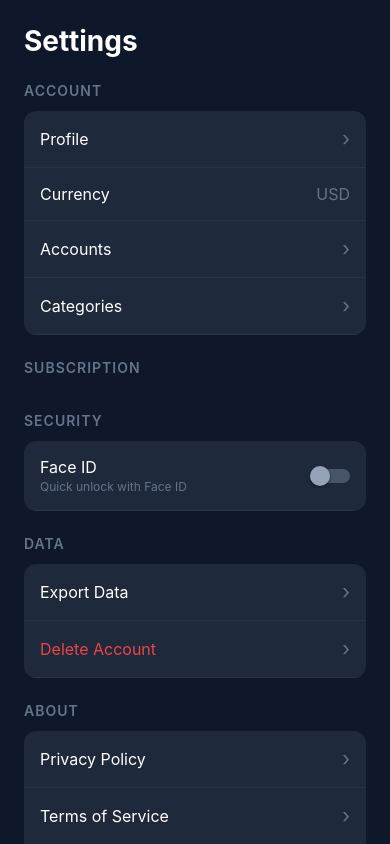
Test: SettingsScreen › Biometric Toggle › shows generic error when enabling biometric fails with non-Error
Click the switch with test id "biometric-switch".
click(330, 476)  # box [310,466,350,486]
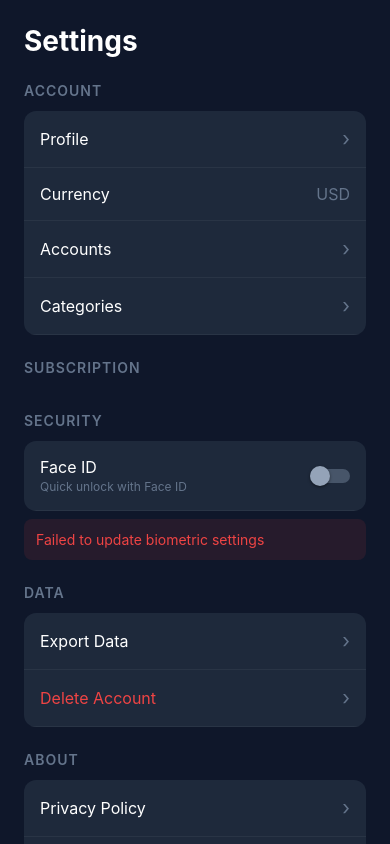
Result: the text "Failed to update biometric settings" is shown at [36,531,264,548]
